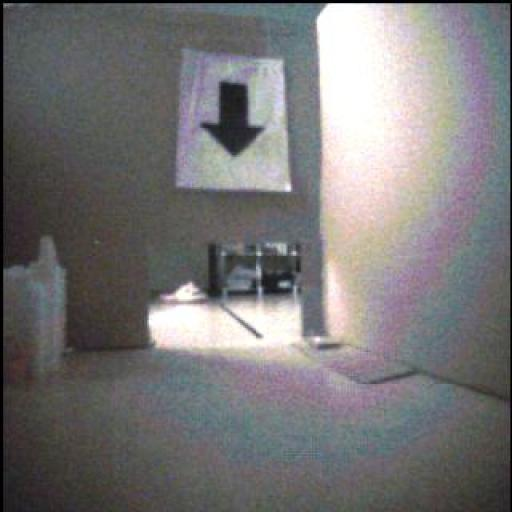arrow: (203, 83, 265, 158)
